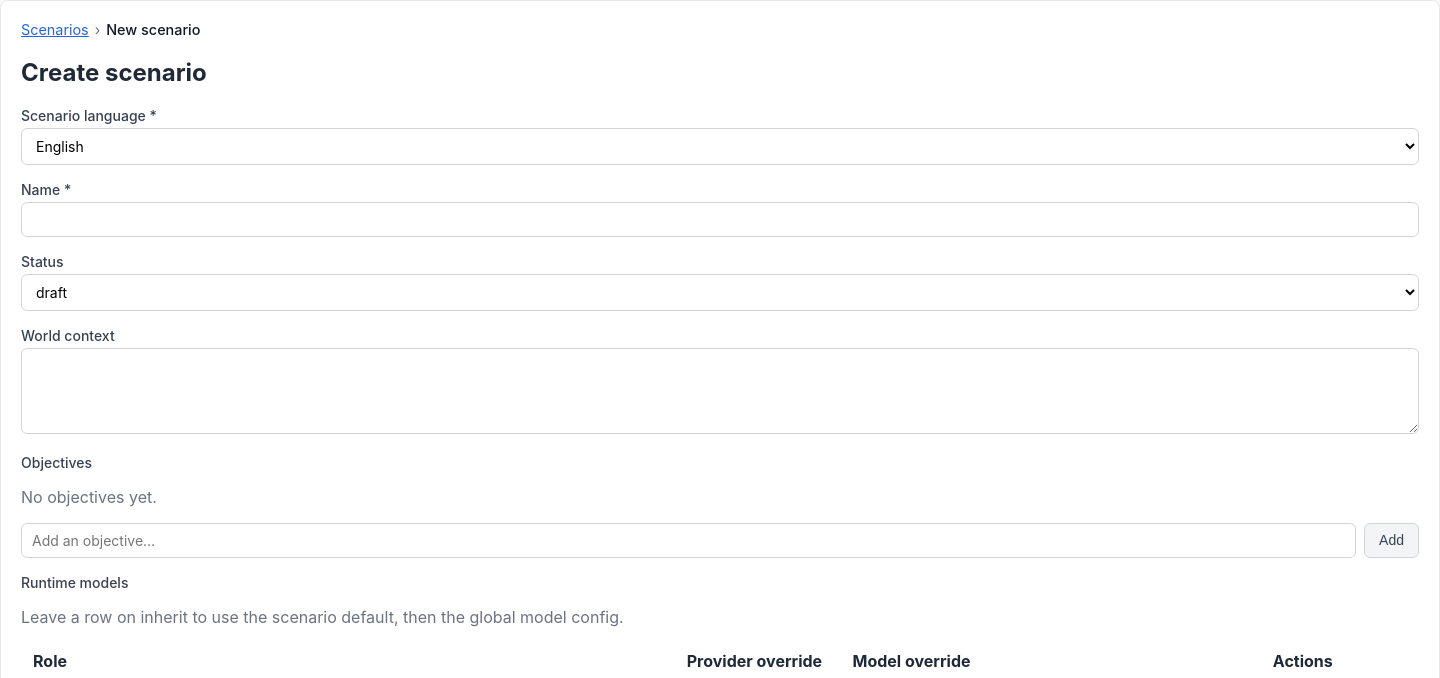
ScenarioCreatePage › shows an error message when creation fails
Type "New Scenario" into the field labelled "Name *" at point(720, 219), box top-left (21, 202), bottom-right (1419, 237)
(page scrolled)
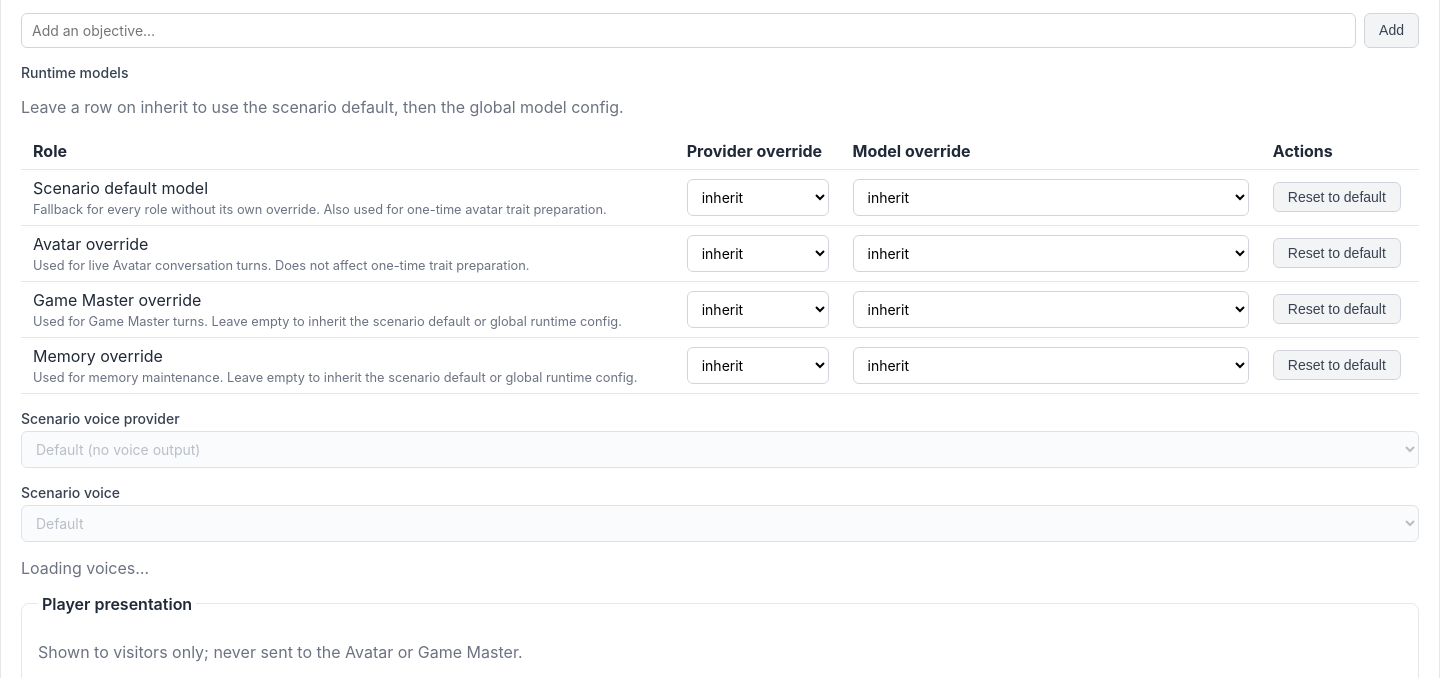
Submit the form named "Create scenario"
(page scrolled)
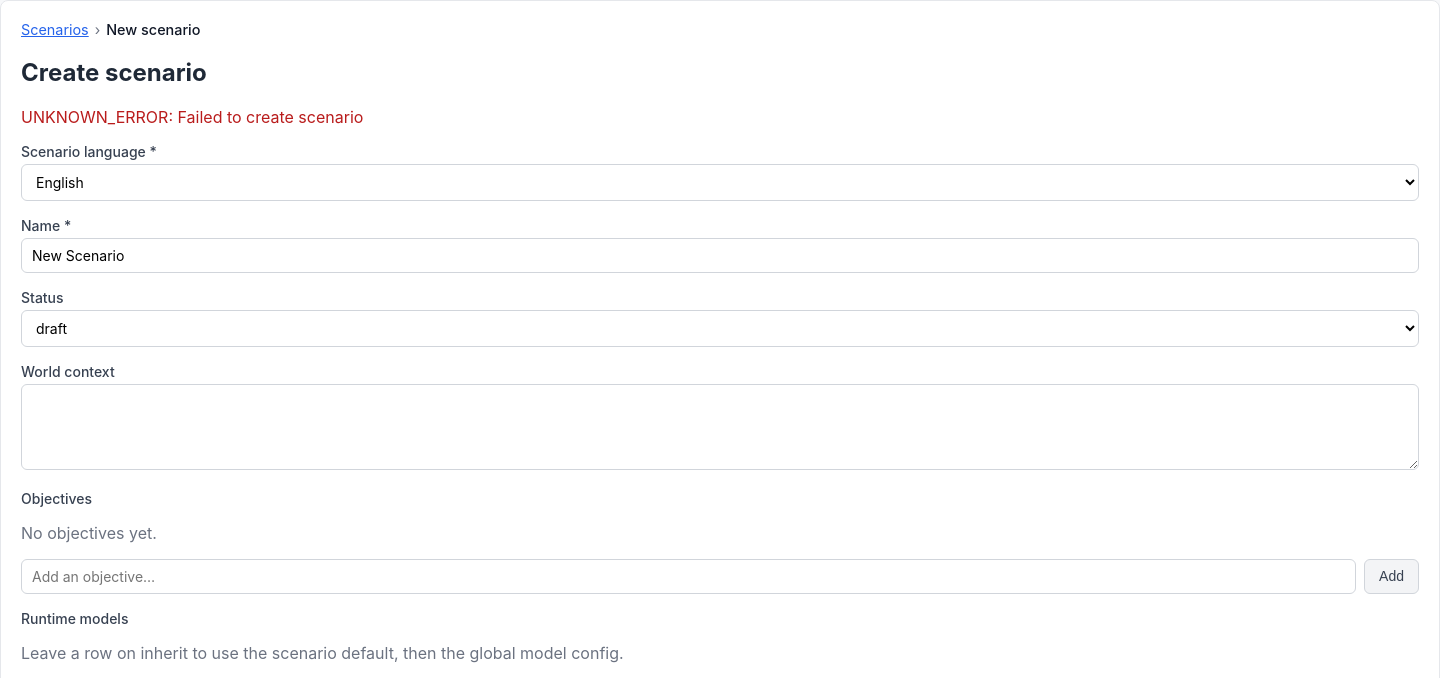
Expected: the text "UNKNOWN_ERROR: Failed to create scenario" is shown, top-left (21, 107), bottom-right (363, 127)
